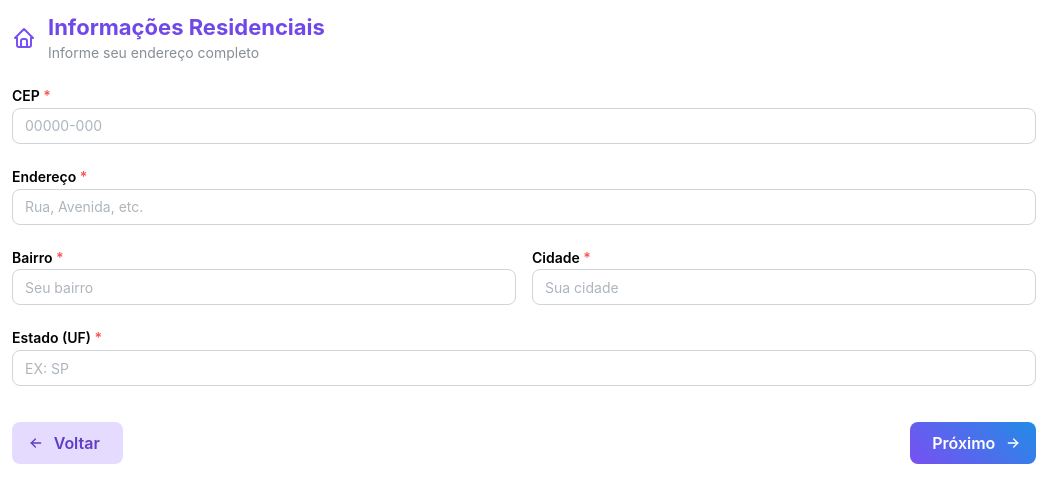
Test: Step2ResidentialInfo › aplica máscara de CEP
Type "01001000" into the field labelled "CEP *" at (524, 126), box [12,108,1036,144]
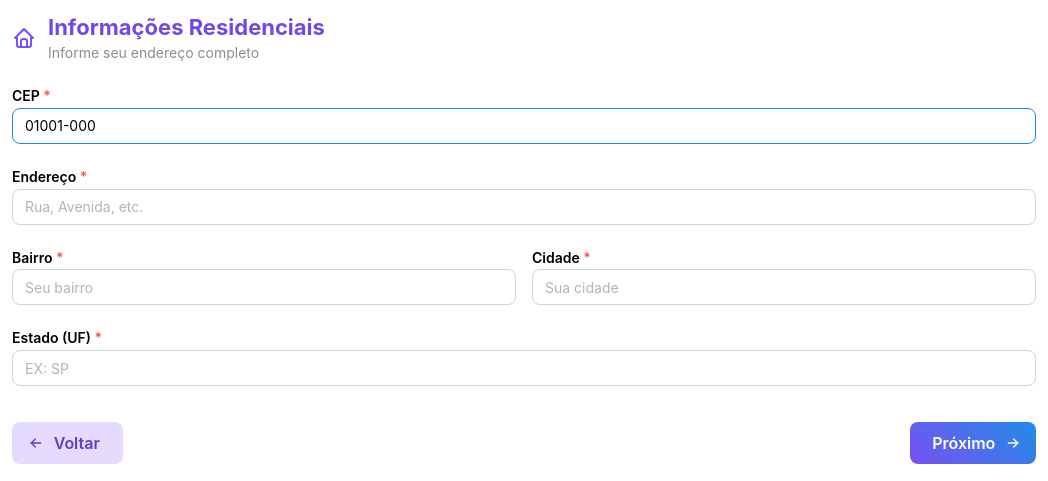
Result: the field labelled "CEP *" holds "01001-000" at [12,108,1036,144]
